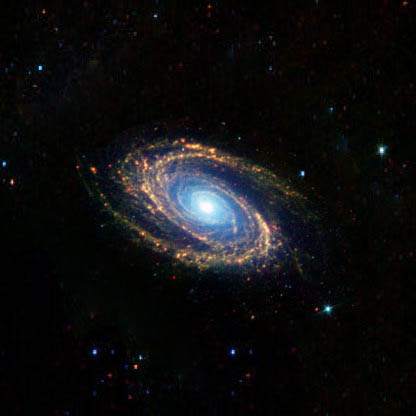Messier 81: (75, 131, 330, 292)
